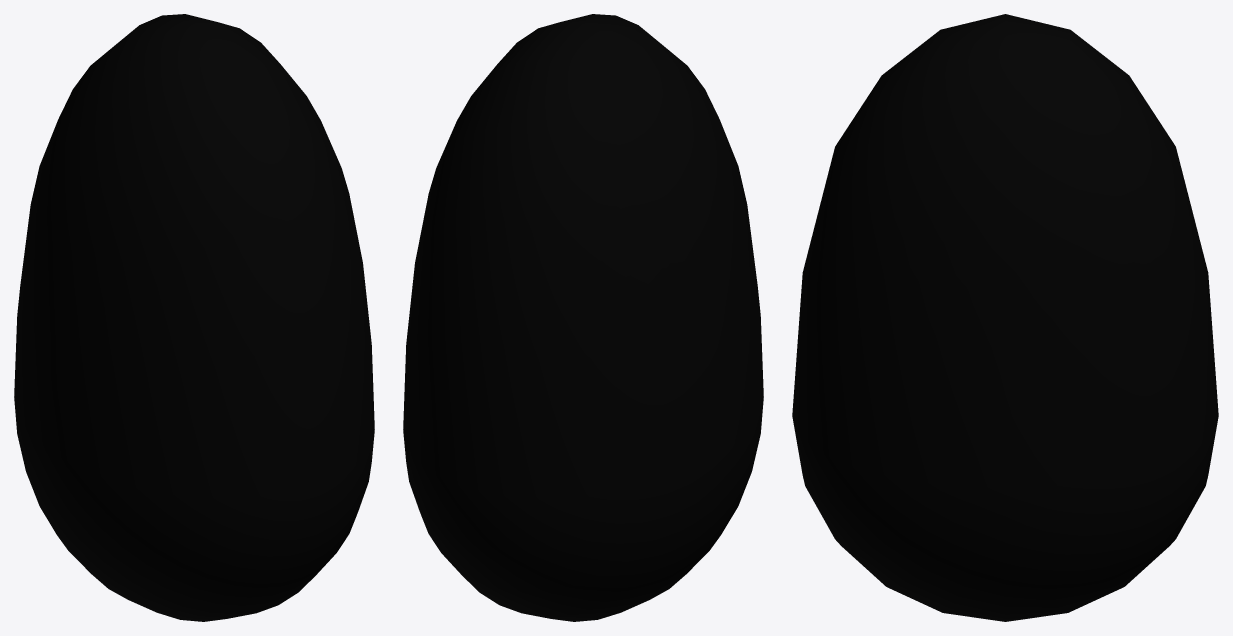
Rendered from RollJumpRope.fbx.
3 renders of one model, left to right at view 1: azimuth 30°, elevation 25°; view 2: azimuth 150°, elevation 25°; view 3: azimuth 270°, elevation 25°, orthographic.
Parts seen in each view (by area): view 1: jumpRope; view 2: jumpRope; view 3: jumpRope.
Boxes of the visible parts, x1=… form: jumpRope: x1=14, y1=14, x2=374, y2=621; jumpRope: x1=403, y1=14, x2=763, y2=621; jumpRope: x1=792, y1=14, x2=1218, y2=621.
Size of the model in its own units: 107 by 203 by 134.
